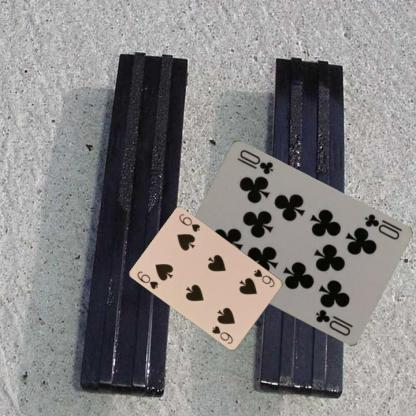10c: (362, 211, 403, 241)
6s: (135, 268, 160, 291), (252, 266, 276, 288)
